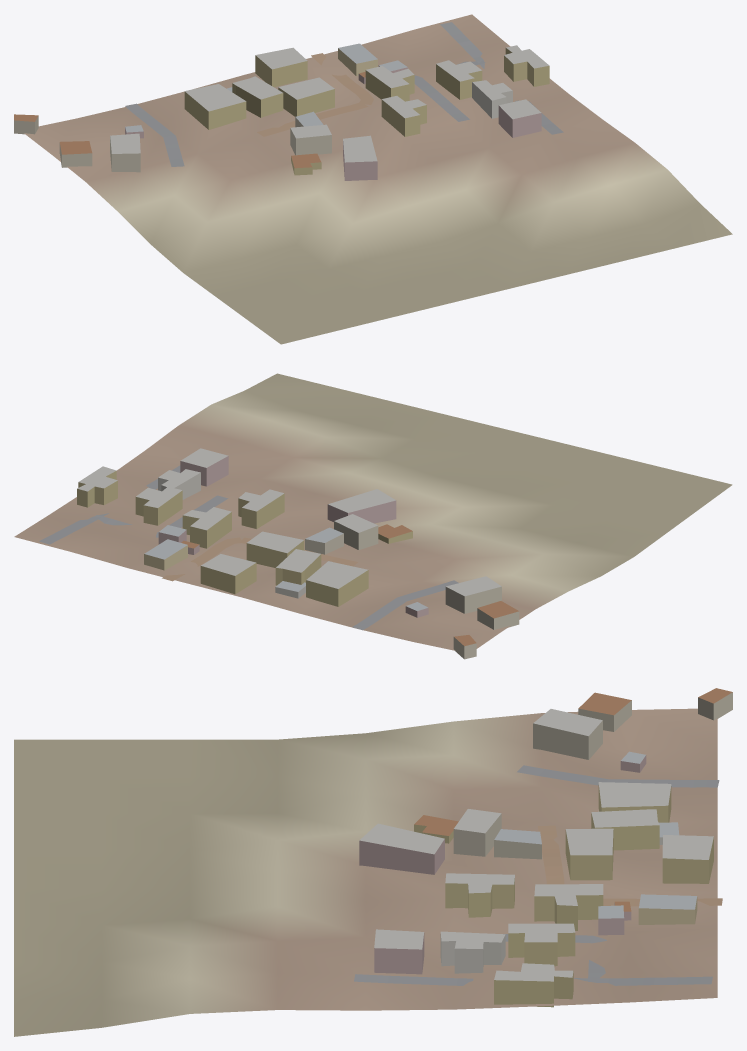
The picture shows the model from 3 angles, top to bottom: view 1: azimuth 30°, elevation 25°; view 2: azimuth 150°, elevation 25°; view 3: azimuth 270°, elevation 25°; orthographic projection. The views are drawn at different scales.
Visible parts, largest first — view 1: Lo; view 2: Lo; view 3: Lo.
Boxes of the visible parts, left/top/right/bottom form: Lo: left=14, top=14, right=732, bottom=344; Lo: left=14, top=373, right=732, bottom=659; Lo: left=14, top=688, right=732, bottom=1036.
Size of the model in its own units: 260 by 22.94 by 262.
